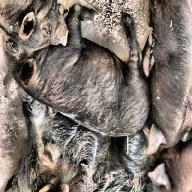boar: (0, 4, 152, 138)
